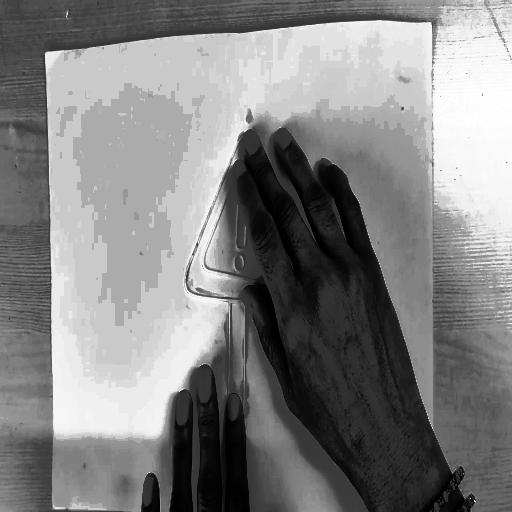signboard: (179, 134, 309, 444)
top_left: (40, 44, 50, 62)
top_right: (427, 14, 437, 35)
